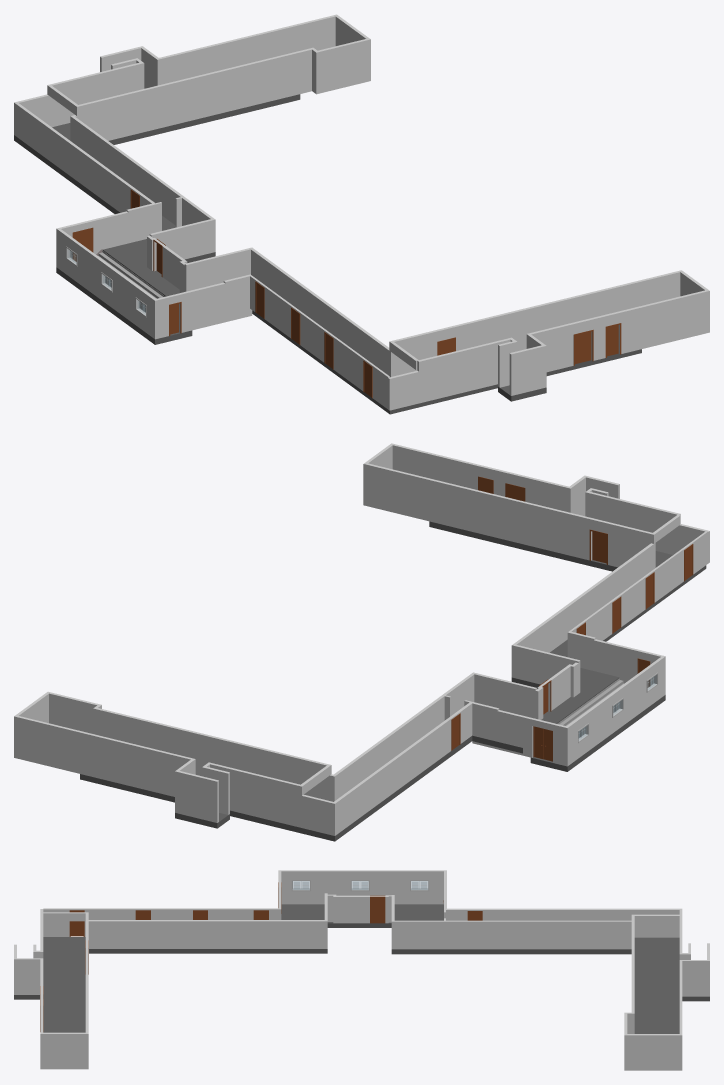
The model's file is hall.dae.
3 renders of one model, top to bottom at view 1: azimuth 30°, elevation 25°; view 2: azimuth 150°, elevation 25°; view 3: azimuth 270°, elevation 25°, orthographic. The views are drawn at different scales.
Parts seen in each view (by area): view 1: product-1f457788-33d8-42d6-9dac-eb1bc8cc5f6a-body, product-1f457788-33d8-42d6-9dac-eb1bc8cc5e83-body, product-8391d977-fac9-4c3c-9c4d-e10f602b6851-body, product-5c24543f-5303-4453-87b6-dd0be59294a7-body, product-1f457788-33d8-42d6-9dac-eb1bc8cc58ac-body, product-1f457788-33d8-42d6-9dac-eb1bc8cc5859-body, product-1f457788-33d8-42d6-9dac-eb1bc8cc5e42-body, product-1f457788-33d8-42d6-9dac-eb1bc8cc5826-body, product-1f457788-33d8-42d6-9dac-eb1bc8cc59fc-body, product-1f457788-33d8-42d6-9dac-eb1bc8cc5fa8-body, product-1f457788-33d8-42d6-9dac-eb1bc8cc59ae-body, product-b8c7f1b8-26ce-477d-aa71-ecea357c917f-body (+12 smaller); view 2: product-1f457788-33d8-42d6-9dac-eb1bc8cc5e83-body, product-1f457788-33d8-42d6-9dac-eb1bc8cc58ac-body, product-1f457788-33d8-42d6-9dac-eb1bc8cc5f6a-body, product-5c24543f-5303-4453-87b6-dd0be59294a7-body, product-1f457788-33d8-42d6-9dac-eb1bc8cc5859-body, product-8391d977-fac9-4c3c-9c4d-e10f602b6851-body, product-1f457788-33d8-42d6-9dac-eb1bc8cc5e42-body, product-1f457788-33d8-42d6-9dac-eb1bc8cc5826-body, product-1f457788-33d8-42d6-9dac-eb1bc8cc5fa8-body, product-1f457788-33d8-42d6-9dac-eb1bc8cc59fc-body, product-b8c7f1b8-26ce-477d-aa71-ecea357c917f-body, product-1f457788-33d8-42d6-9dac-eb1bc8cc5871-body (+12 smaller); view 3: product-5c24543f-5303-4453-87b6-dd0be59294a7-body, product-1f457788-33d8-42d6-9dac-eb1bc8cc5fa8-body, product-1f457788-33d8-42d6-9dac-eb1bc8cc5e42-body, product-1f457788-33d8-42d6-9dac-eb1bc8cc5826-body, product-1f457788-33d8-42d6-9dac-eb1bc8cc5859-body, product-1f457788-33d8-42d6-9dac-eb1bc8cc59fc-body, product-5c24543f-5303-4453-87b6-dd0be59297ef-body, product-1f457788-33d8-42d6-9dac-eb1bc8cc594e-body, product-146fff9b-f743-4e37-a756-b6df3b8a64da-body, product-1f457788-33d8-42d6-9dac-eb1bc8cc5e3d-body, product-b8c7f1b8-26ce-477d-aa71-ecea357c921c-body, product-8391d977-fac9-4c3c-9c4d-e10f602b6941-body (+7 smaller).
Part boxes in pixels (bbox=[...]): product-1f457788-33d8-42d6-9dac-eb1bc8cc5f6a-body: bbox=[77, 47, 314, 140]; product-1f457788-33d8-42d6-9dac-eb1bc8cc5e83-body: bbox=[389, 270, 682, 376]; product-8391d977-fac9-4c3c-9c4d-e10f602b6851-body: bbox=[526, 289, 709, 372]; product-5c24543f-5303-4453-87b6-dd0be59294a7-body: bbox=[14, 94, 641, 414]; product-1f457788-33d8-42d6-9dac-eb1bc8cc58ac-body: bbox=[156, 14, 337, 85]; product-1f457788-33d8-42d6-9dac-eb1bc8cc5859-body: bbox=[15, 103, 156, 232]; product-1f457788-33d8-42d6-9dac-eb1bc8cc5e42-body: bbox=[249, 247, 393, 377]; product-1f457788-33d8-42d6-9dac-eb1bc8cc5826-body: bbox=[58, 229, 157, 339]; product-1f457788-33d8-42d6-9dac-eb1bc8cc59fc-body: bbox=[250, 275, 389, 408]; product-1f457788-33d8-42d6-9dac-eb1bc8cc5fa8-body: bbox=[72, 116, 213, 225]; product-1f457788-33d8-42d6-9dac-eb1bc8cc59ae-body: bbox=[417, 338, 510, 403]; product-b8c7f1b8-26ce-477d-aa71-ecea357c917f-body: bbox=[47, 62, 144, 127]; product-1f457788-33d8-42d6-9dac-eb1bc8cc5e83-body: bbox=[363, 462, 655, 567]; product-1f457788-33d8-42d6-9dac-eb1bc8cc58ac-body: bbox=[14, 715, 195, 796]; product-1f457788-33d8-42d6-9dac-eb1bc8cc5f6a-body: bbox=[93, 707, 329, 800]; product-5c24543f-5303-4453-87b6-dd0be59294a7-body: bbox=[80, 521, 706, 841]; product-1f457788-33d8-42d6-9dac-eb1bc8cc5859-body: bbox=[334, 701, 473, 834]; product-8391d977-fac9-4c3c-9c4d-e10f602b6851-body: bbox=[390, 443, 572, 512]; product-1f457788-33d8-42d6-9dac-eb1bc8cc5e42-body: bbox=[511, 543, 655, 677]; product-1f457788-33d8-42d6-9dac-eb1bc8cc5826-body: bbox=[566, 655, 665, 764]; product-1f457788-33d8-42d6-9dac-eb1bc8cc5fa8-body: bbox=[334, 673, 474, 799]; product-1f457788-33d8-42d6-9dac-eb1bc8cc59fc-body: bbox=[569, 531, 708, 640]; product-b8c7f1b8-26ce-477d-aa71-ecea357c917f-body: bbox=[207, 762, 303, 827]; product-1f457788-33d8-42d6-9dac-eb1bc8cc5871-body: bbox=[472, 702, 569, 766]; product-5c24543f-5303-4453-87b6-dd0be59294a7-body: bbox=[14, 915, 709, 1033]; product-1f457788-33d8-42d6-9dac-eb1bc8cc5fa8-body: bbox=[394, 920, 631, 949]; product-1f457788-33d8-42d6-9dac-eb1bc8cc5e42-body: bbox=[88, 920, 327, 948]; product-1f457788-33d8-42d6-9dac-eb1bc8cc5826-body: bbox=[278, 870, 443, 904]; product-1f457788-33d8-42d6-9dac-eb1bc8cc5859-body: bbox=[444, 908, 679, 937]; product-1f457788-33d8-42d6-9dac-eb1bc8cc59fc-body: bbox=[43, 908, 278, 936]; product-5c24543f-5303-4453-87b6-dd0be59297ef-body: bbox=[624, 1034, 679, 1070]; product-1f457788-33d8-42d6-9dac-eb1bc8cc594e-body: bbox=[43, 1032, 85, 1069]; product-146fff9b-f743-4e37-a756-b6df3b8a64da-body: bbox=[281, 904, 443, 915]; product-1f457788-33d8-42d6-9dac-eb1bc8cc5e3d-body: bbox=[336, 895, 385, 923]; product-b8c7f1b8-26ce-477d-aa71-ecea357c921c-body: bbox=[682, 960, 709, 996]; product-8391d977-fac9-4c3c-9c4d-e10f602b6941-body: bbox=[14, 958, 40, 994].
Size of the model in its own units: 28.43 by 47.94 by 3.56.
